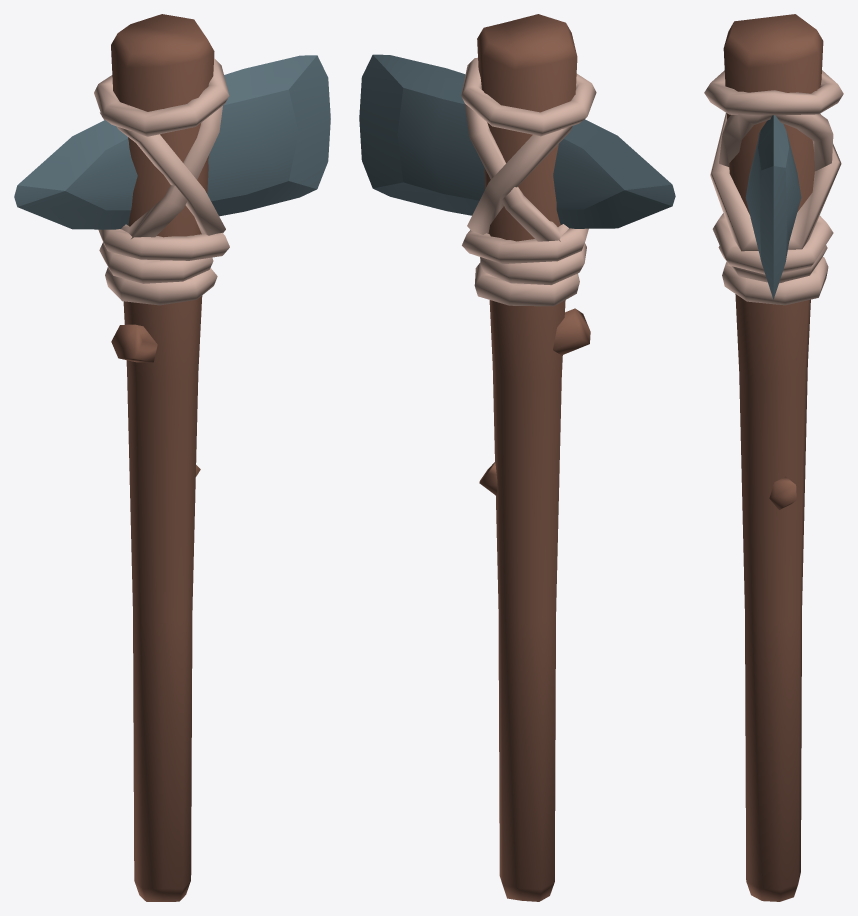
The model's file is flint_axe.fbx.
3 renders of one model, left to right at view 1: azimuth 30°, elevation 25°; view 2: azimuth 150°, elevation 25°; view 3: azimuth 270°, elevation 25°, orthographic.
Parts seen in each view (by area): view 1: flint_axe; view 2: flint_axe; view 3: flint_axe.
Boxes of the visible parts, bbox=[...] form: flint_axe: bbox=[14, 14, 330, 901]; flint_axe: bbox=[359, 14, 675, 901]; flint_axe: bbox=[704, 14, 843, 901].
Bounding box in the file's own units: 388 × 1008 × 148.
